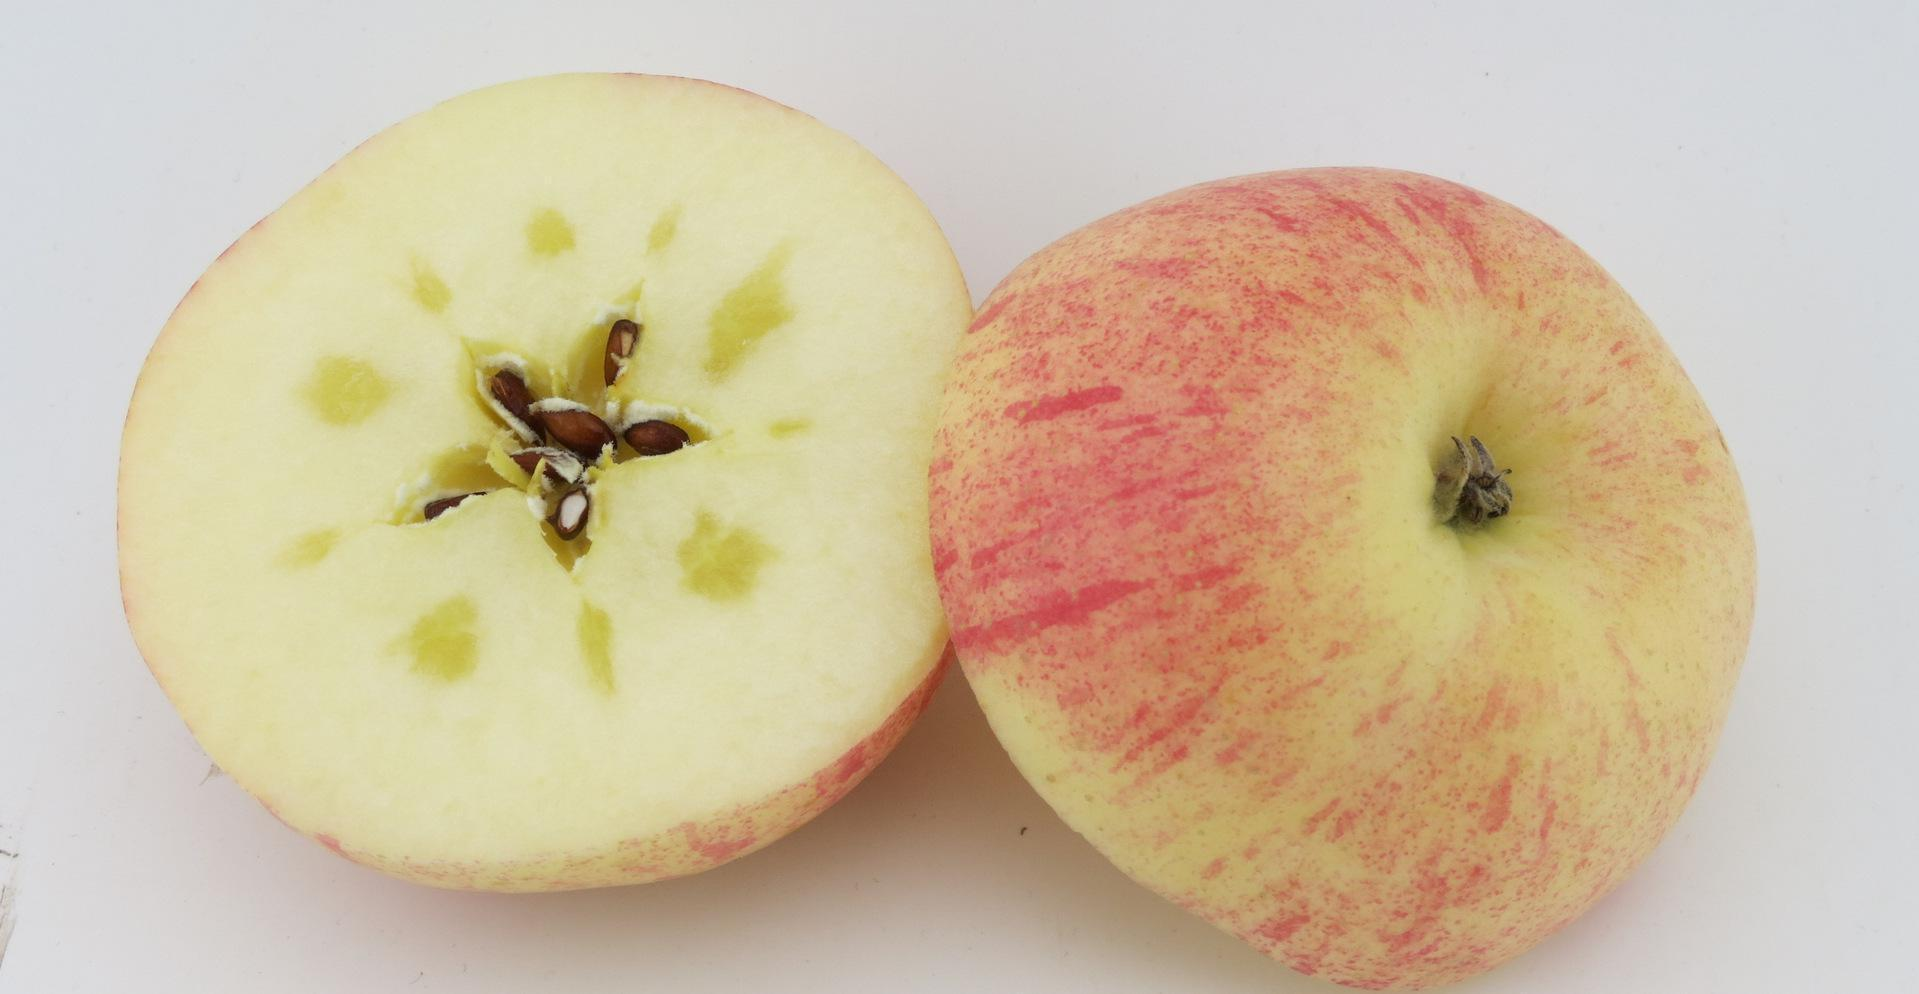apple: (940, 158, 1766, 975)
